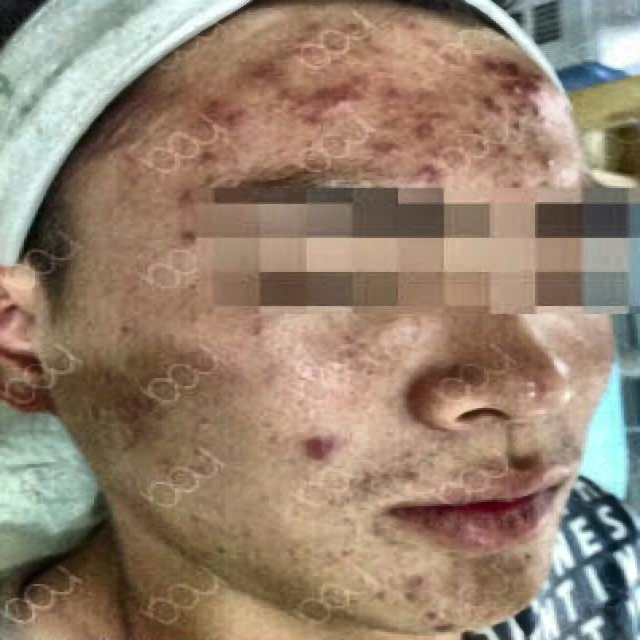pustule: (314, 81, 374, 123), (246, 66, 305, 97), (507, 76, 562, 108), (471, 54, 528, 76), (305, 431, 343, 463), (180, 226, 213, 262), (467, 93, 508, 118), (399, 570, 440, 594), (421, 615, 465, 635), (379, 140, 410, 164), (416, 121, 440, 151), (384, 84, 412, 107), (534, 152, 563, 174), (179, 188, 202, 212), (198, 98, 239, 111), (225, 108, 248, 131), (422, 158, 440, 184)
